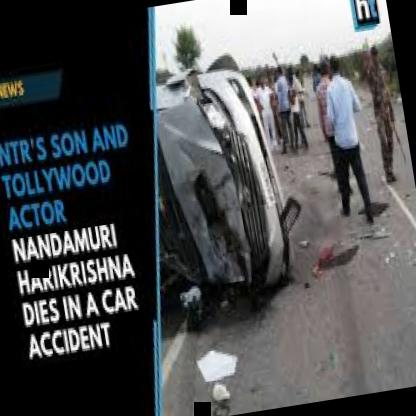accident: (137, 34, 325, 352)
